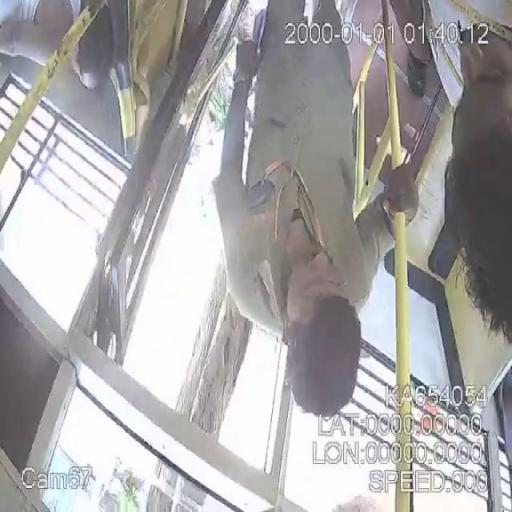persona: (208, 1, 420, 418), (425, 0, 511, 346)
